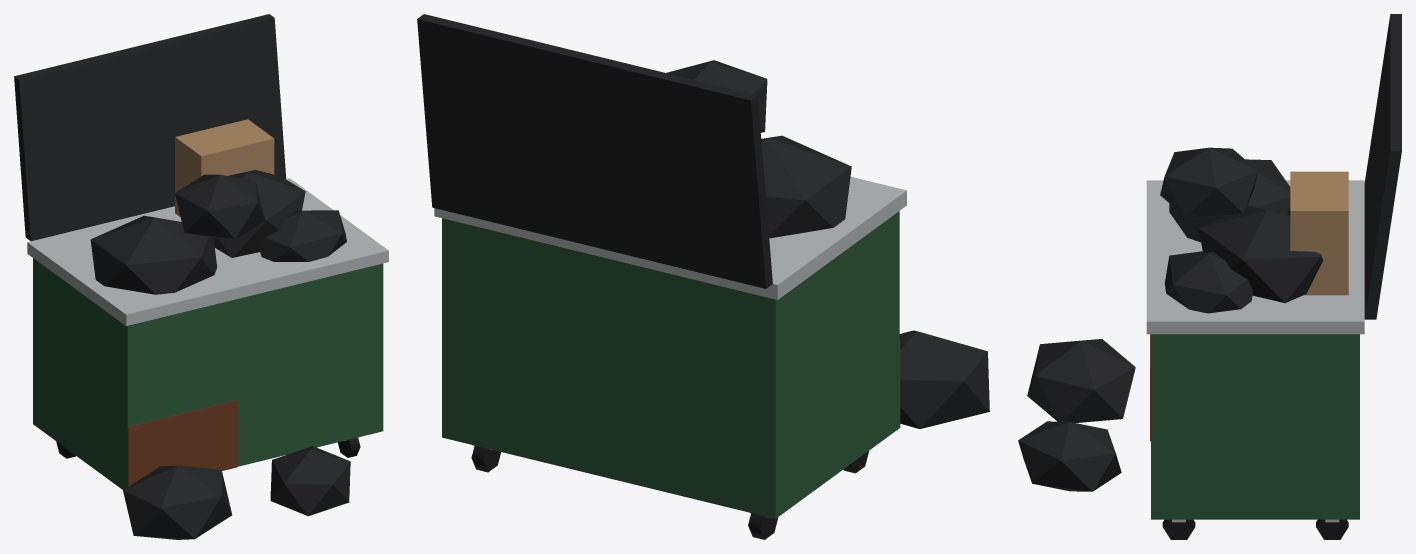
Rendered from dumpster_overflow.glb.
3 renders of one model, left to right at view 1: azimuth 30°, elevation 25°; view 2: azimuth 150°, elevation 25°; view 3: azimuth 270°, elevation 25°, orthographic. The views are drawn at different scales.
Visible parts, largest first — view 1: dumpster_overflow; view 2: dumpster_overflow; view 3: dumpster_overflow.
Boxes of the visible parts, x1,y1,x2,y2 form: dumpster_overflow: [14, 14, 388, 539]; dumpster_overflow: [417, 14, 989, 539]; dumpster_overflow: [1018, 14, 1401, 539].
Bounding box in the file's own units: 1.59 × 1.89 × 1.65.
1 material, 1 textured.
